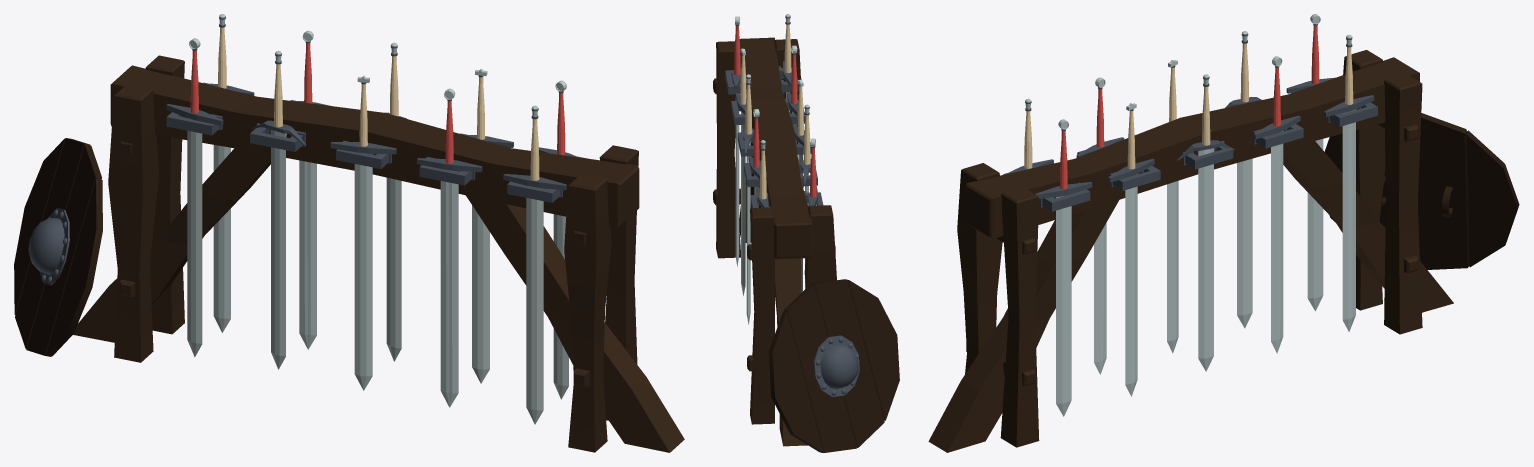
File: Swords.fbx
3 renders of one model, left to right at view 1: azimuth 30°, elevation 25°; view 2: azimuth 150°, elevation 25°; view 3: azimuth 270°, elevation 25°, orthographic. The views are drawn at different scales.
Parts seen in each view (by area): view 1: sword-place-holder, swords, shield, sword-holders; view 2: sword-place-holder, shield, swords, sword-holders; view 3: sword-place-holder, swords, shield, sword-holders.
Boxes of the visible parts, left/top/right/bottom form: sword-place-holder: left=73, top=55, right=684, bottom=452; swords: left=166, top=14, right=577, bottom=424; shield: left=14, top=138, right=102, bottom=356; sword-holders: left=166, top=82, right=587, bottom=202; sword-place-holder: left=713, top=37, right=836, bottom=446; shield: left=768, top=279, right=899, bottom=452; swords: left=732, top=14, right=818, bottom=324; sword-holders: left=725, top=66, right=823, bottom=207; sword-place-holder: left=928, top=50, right=1453, bottom=452; swords: left=1006, top=14, right=1374, bottom=416; shield: left=1324, top=113, right=1519, bottom=269; sword-holders: left=1003, top=102, right=1377, bottom=211.
Bounding box in the file's own units: 495 × 379 × 657.
